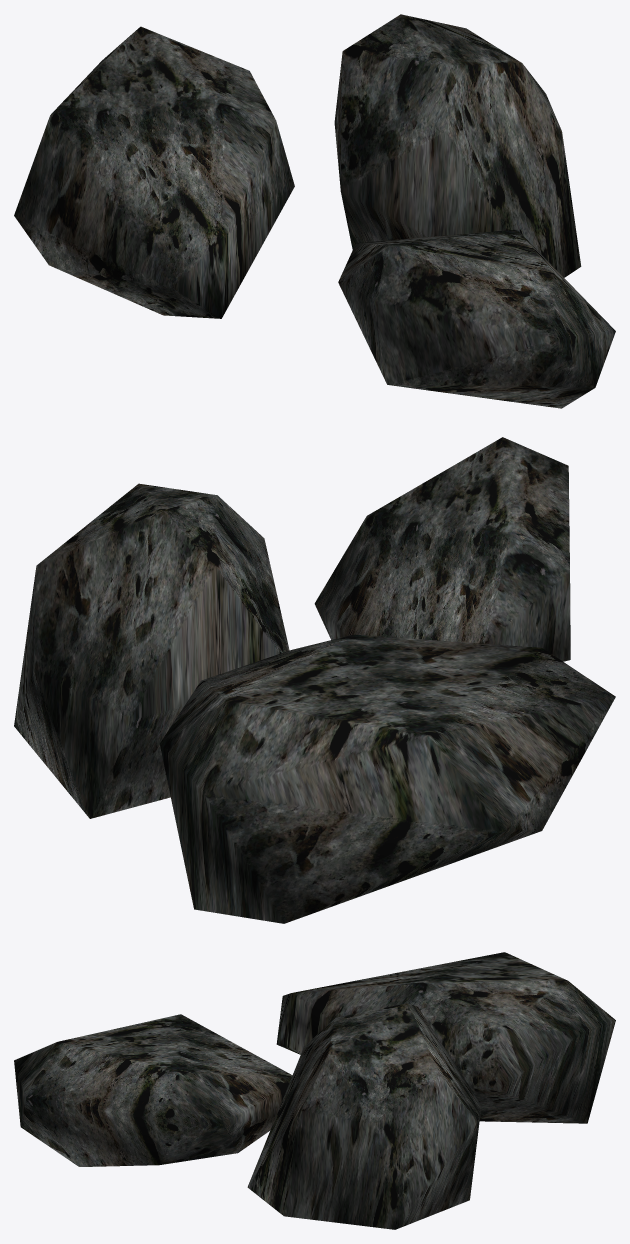
File: rock_scorched_medium_l2.fbx
3 renders of one model, top to bottom at view 1: azimuth 30°, elevation 25°; view 2: azimuth 150°, elevation 25°; view 3: azimuth 270°, elevation 25°, orthographic. The views are drawn at different scales.
Parts seen in each view (by area): view 1: mesh_node; view 2: mesh_node; view 3: mesh_node.
Part boxes in pixels (bbox=[...]): mesh_node: bbox=[14, 14, 615, 408]; mesh_node: bbox=[14, 437, 615, 923]; mesh_node: bbox=[14, 952, 615, 1229].
Bounding box in the file's own units: 5.75 × 2.76 × 8.02.
Materials: 1 (1 with a texture image).
